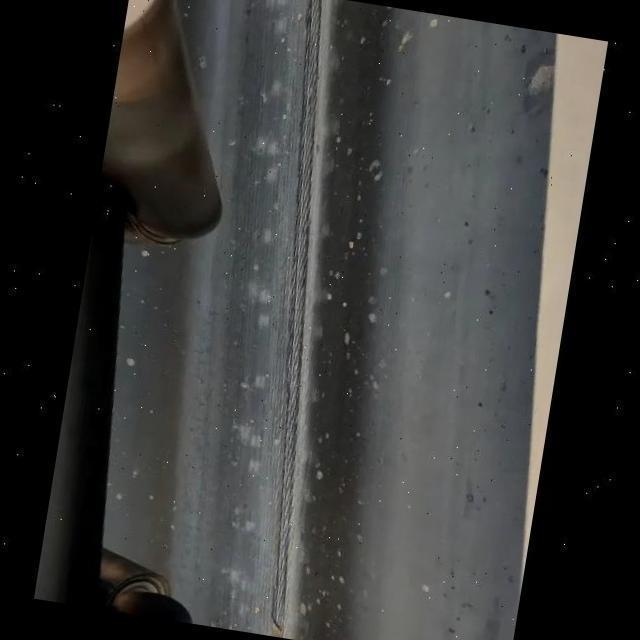Wear: (267, 0, 330, 640)
